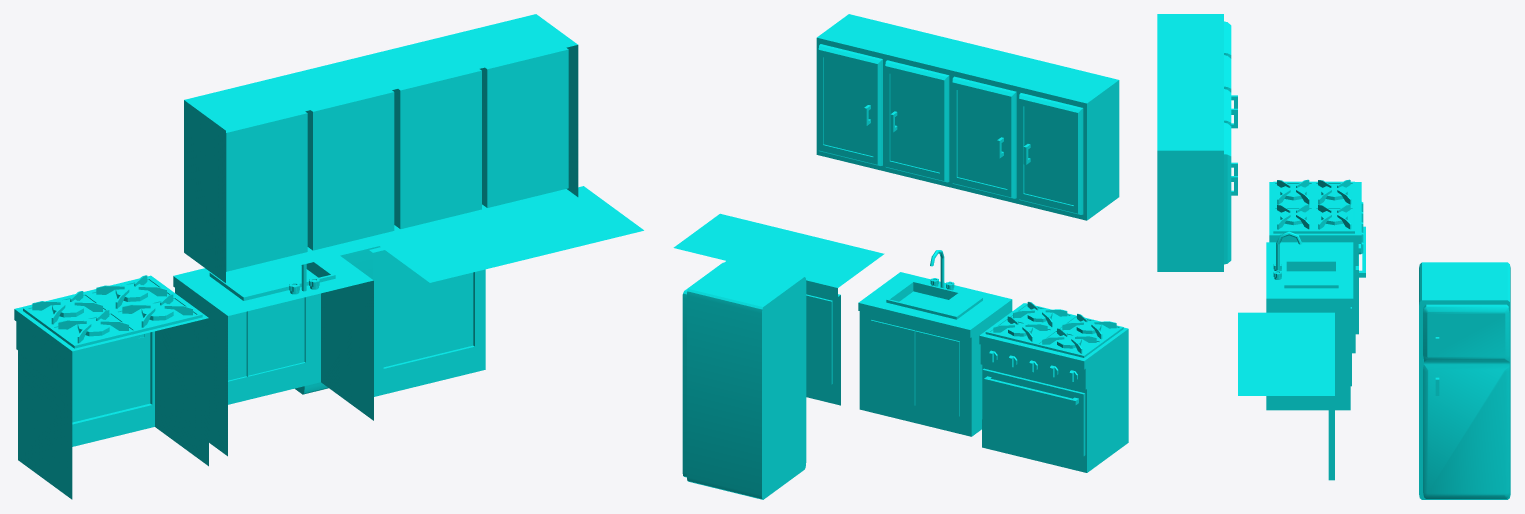
Rendered from Kitchen_Set_Muebles_01.fbx.
The picture shows the model from 3 angles, left to right: view 1: azimuth 30°, elevation 25°; view 2: azimuth 150°, elevation 25°; view 3: azimuth 270°, elevation 25°; orthographic projection. The views are drawn at different scales.
Parts seen in each view (by area): view 1: Kitchen_Shelf:Mesh, HornoDONE, MuebleCocinaDONE, Fregadero_DONE, pCube4, Sink, Fridge_Body; view 2: Kitchen_Shelf:Mesh, Fridge_Body, HornoDONE, Fregadero_DONE, MuebleCocinaDONE, pCube4, Sink, Door, pCube3, polySurface48; view 3: Kitchen_Shelf:Mesh, Door, MuebleCocinaDONE, Fregadero_DONE, Fridge_Body, pCube4, Sink, HornoDONE.
Part boxes in pixels (left/top/right/bottom): Kitchen_Shelf:Mesh: left=184, top=14, right=578, bottom=283; HornoDONE: left=14, top=275, right=208, bottom=499; MuebleCocinaDONE: left=369, top=186, right=643, bottom=396; Fregadero_DONE: left=173, top=255, right=373, bottom=456; pCube4: left=23, top=277, right=202, bottom=348; Sink: left=209, top=261, right=335, bottom=300; Fridge_Body: left=295, top=248, right=372, bottom=394; Kitchen_Shelf:Mesh: left=816, top=14, right=1119, bottom=220; Fridge_Body: left=687, top=258, right=806, bottom=499; HornoDONE: left=979, top=303, right=1128, bottom=472; Fregadero_DONE: left=858, top=272, right=1012, bottom=436; MuebleCocinaDONE: left=673, top=213, right=884, bottom=405; pCube4: left=985, top=303, right=1123, bottom=357; Sink: left=886, top=280, right=982, bottom=319; Door: left=682, top=262, right=723, bottom=477; pCube3: left=984, top=376, right=1078, bottom=405; polySurface48: left=987, top=350, right=1077, bottom=381; Kitchen_Shelf:Mesh: left=1157, top=14, right=1237, bottom=271; Door: left=1423, top=304, right=1509, bottom=498; MuebleCocinaDONE: left=1238, top=312, right=1334, bottom=480; Fregadero_DONE: left=1266, top=242, right=1353, bottom=410; Fridge_Body: left=1419, top=262, right=1510, bottom=499; pCube4: left=1273, top=181, right=1354, bottom=233; Sink: left=1284, top=250, right=1338, bottom=288; HornoDONE: left=1269, top=182, right=1361, bottom=353.
Size of the model in its own units: 227 by 175 by 158.
